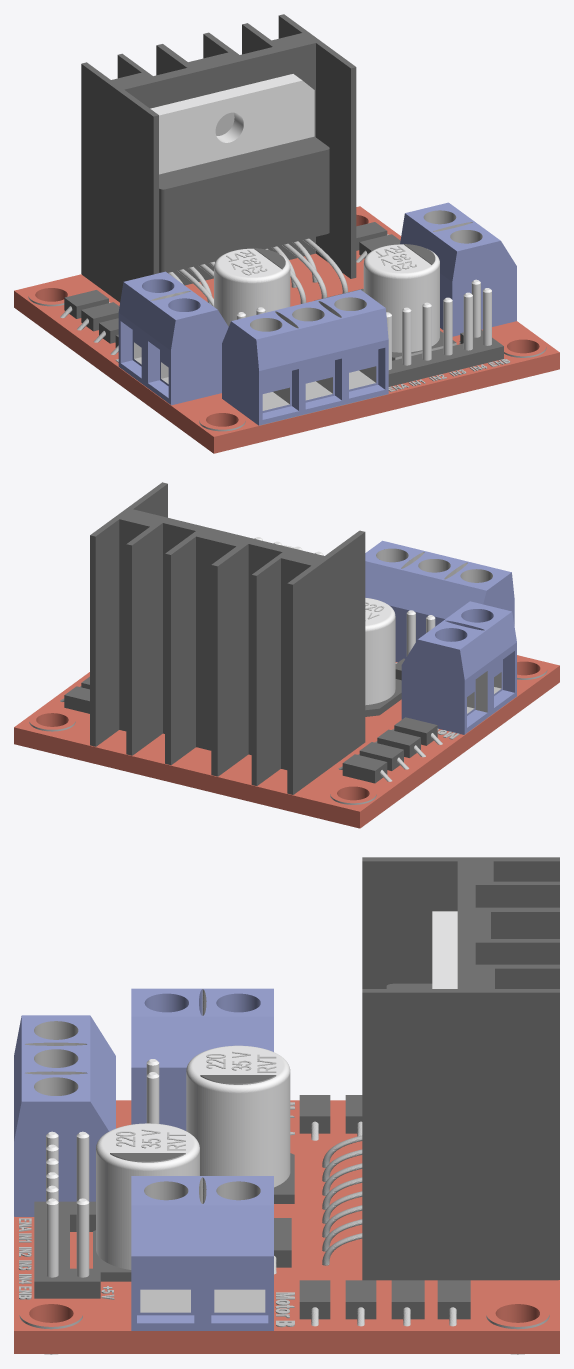
3 views of the same model, one above another, from view 1: azimuth 30°, elevation 25°; view 2: azimuth 150°, elevation 25°; view 3: azimuth 270°, elevation 25° (orthographic). The views are drawn at different scales.
Parts seen in each view (by area): view 1: Node7, Node5, Node4, Node6, Node2, Node1; view 2: Node7, Node6, Node5, Node4, Node2; view 3: Node7, Node5, Node6, Node4, Node2, Node1, Node3.
Part boxes in pixels (x1,y1,x2,y2): Node7: [64, 14, 503, 386]; Node5: [118, 202, 516, 425]; Node4: [150, 74, 491, 369]; Node6: [14, 206, 559, 453]; Node2: [28, 112, 546, 431]; Node1: [254, 244, 510, 391]; Node7: [64, 482, 437, 794]; Node6: [14, 655, 559, 828]; Node5: [365, 540, 516, 734]; Node4: [254, 537, 435, 705]; Node2: [29, 548, 547, 804]; Node7: [34, 857, 559, 1319]; Node5: [14, 988, 273, 1330]; Node6: [14, 1100, 559, 1353]; Node4: [46, 911, 457, 1277]; Node2: [19, 989, 549, 1354]; Node1: [18, 1075, 276, 1299]; Node3: [206, 1051, 276, 1072].
Bounding box in the file's own units: 43 × 28 × 43.
